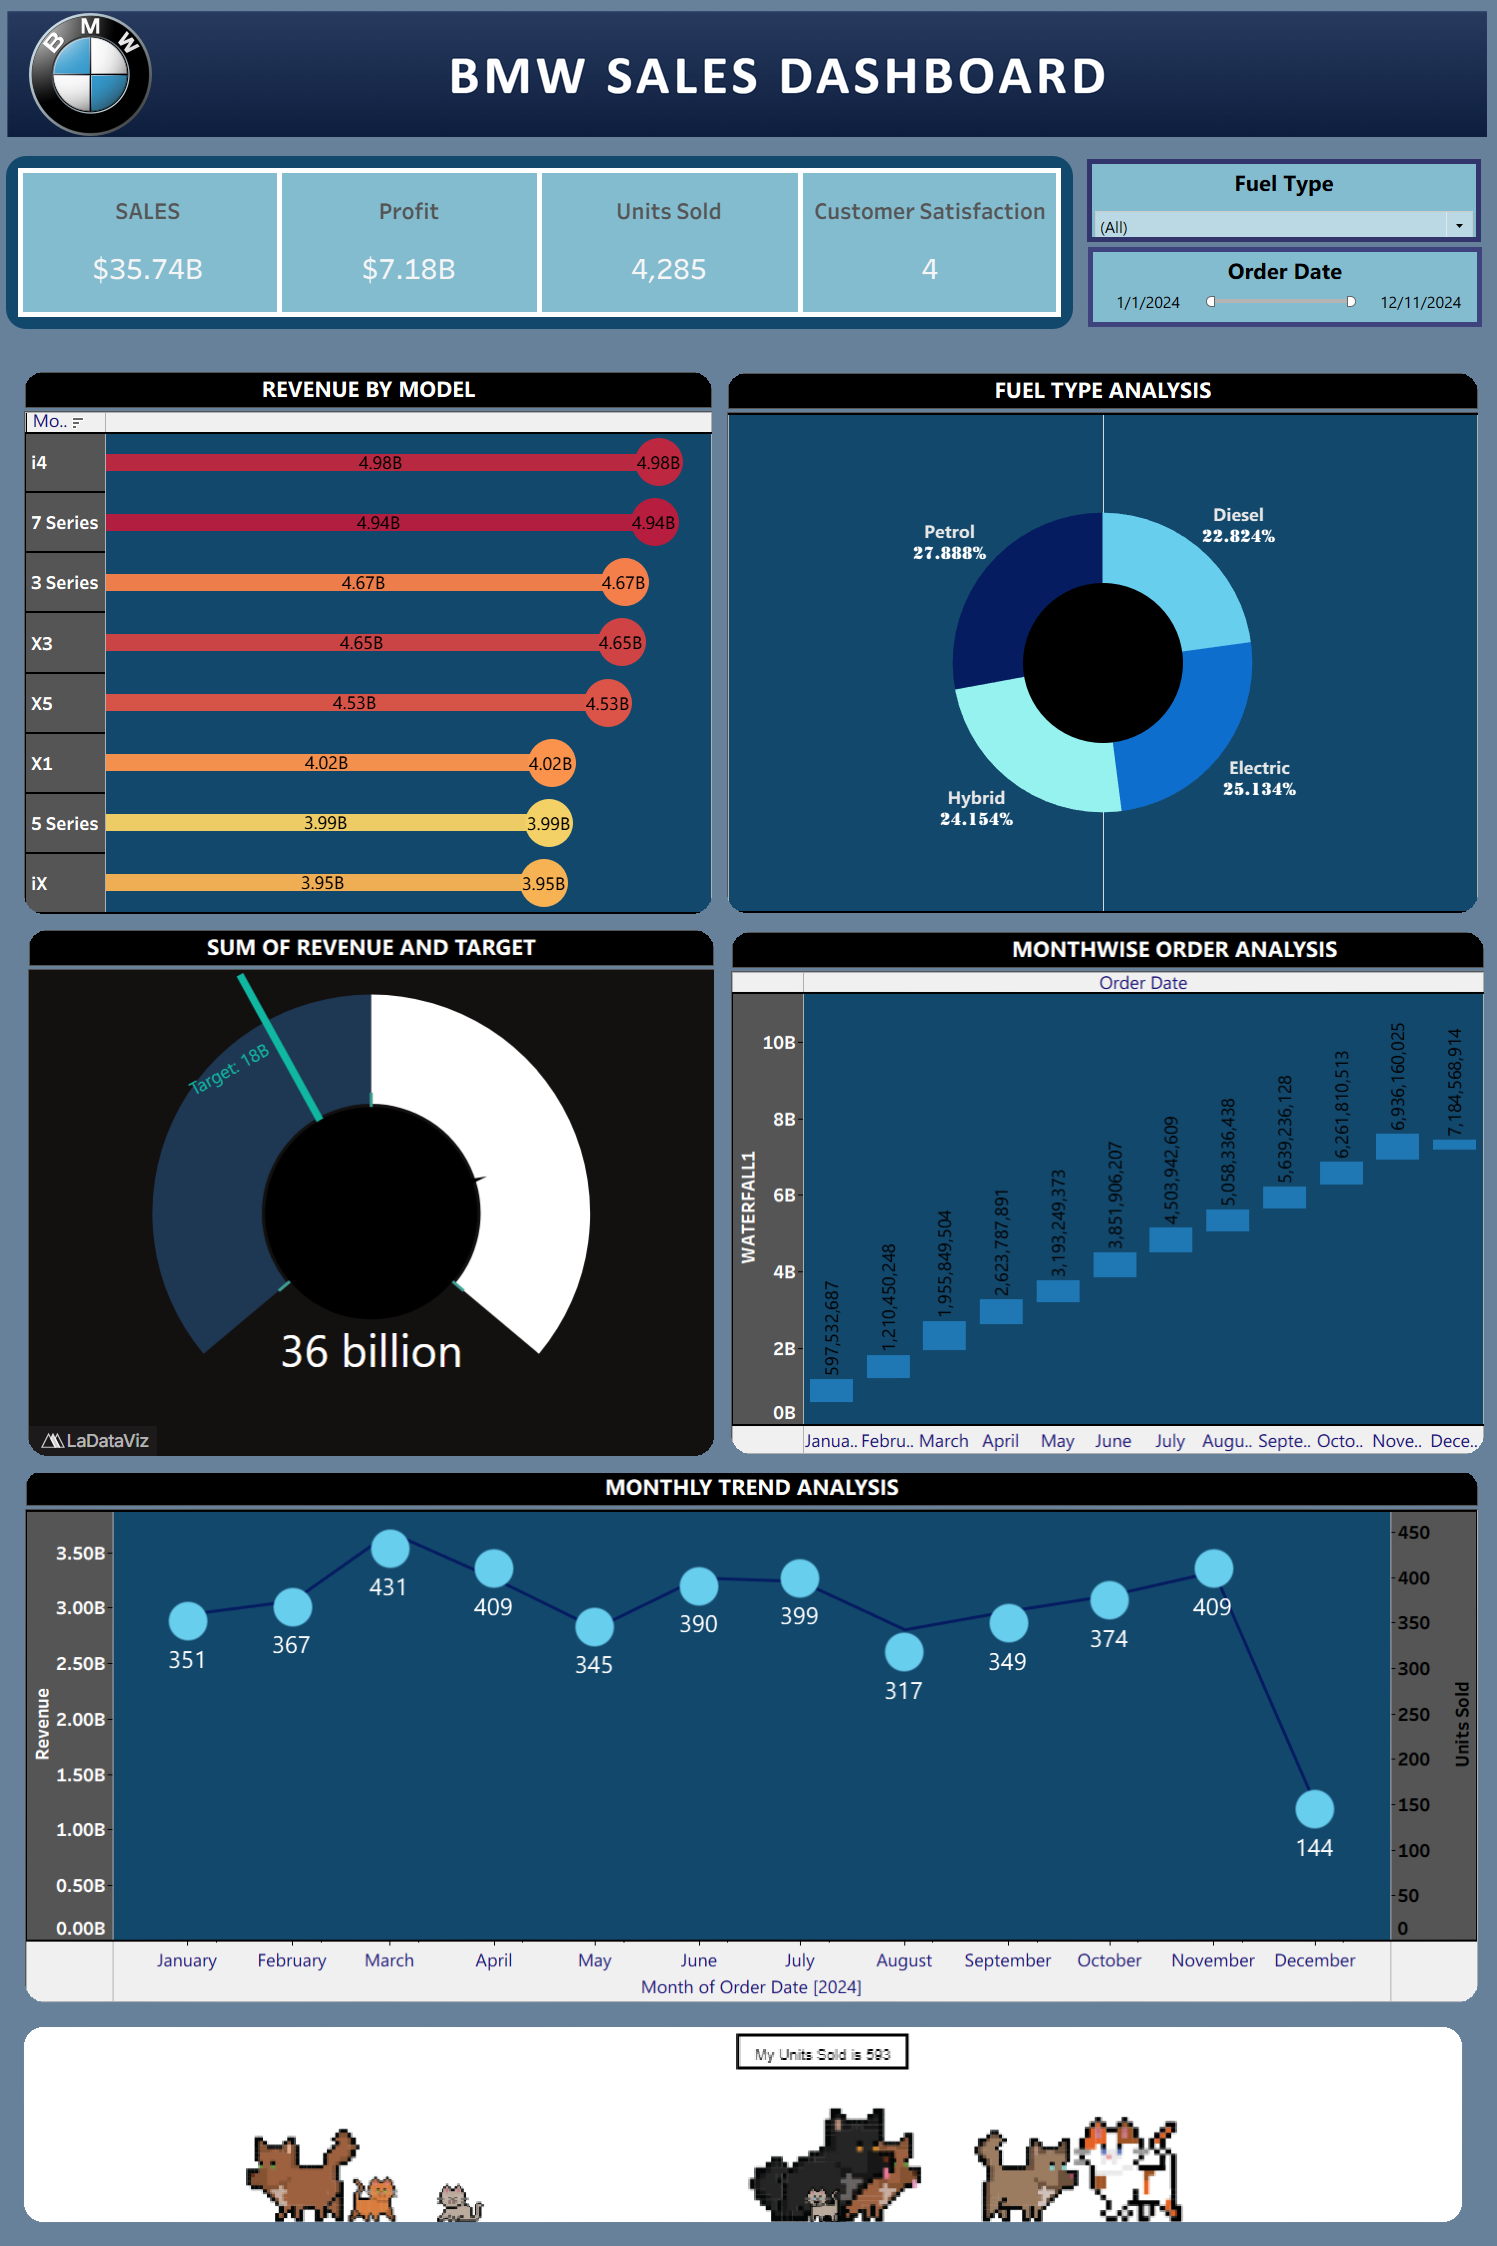

This screenshot's page, from the dashboard's own definition file:
{"tool":"tableau","page":{"name":"BMW DASHBOARD","canvas":[1500,2500],"ordinal":0},"visuals":[{"type":"image","param":"C:/Users/Admin/Downloads/bmw-sales-dashboard-banner (5).png","box":[1,1,1500,180]},{"type":"image","param":"C:/Users/Admin/Downloads/bmw.svg","box":[33,13,123,141]},{"type":"worksheet","title":"KPI MEASURES AND VLAUES","mark":"Automatic","box":[10,156,1067,173]},{"type":"filter","title":"SLICER 1","param":"[federated.1ohhm1g0ndy85h1eza1ex1nmdgmo].[none:FuelType:nk]","box":[1091,159,394,83]},{"type":"filter","title":"SLICER 2","param":"[federated.1ohhm1g0ndy85h1eza1ex1nmdgmo].[none:OrderDate:qk]","box":[1092,247,394,80]},{"type":"worksheet","title":"REVENUE BY MODEL","mark":"Automatic","rows":["Model"],"cols":["Revenue","Revenue"],"box":[28,372,688,542]},{"type":"worksheet","title":"FUEL TYPE ANALYSIS","mark":"Pie","cols":["Calculation_1367251508613126","Calculation_1367251508613126"],"box":[731,373,751,540]},{"type":"worksheet","title":"SLICER 2","mark":"Automatic","box":[794,394,399,97]},{"type":"worksheet","title":"SLICER 1","mark":"Automatic","box":[885,413,355,117]},{"type":"worksheet","title":"GAUGE CHART","box":[28,933,687,527]},{"type":"worksheet","title":"WATERFALL CHART","mark":"GanttBar","rows":["Calculation_0634977017462792"],"cols":["OrderDate"],"box":[732,935,754,523]},{"type":"worksheet","title":"MONTHLY TREND","mark":"Line","rows":["Revenue","UnitsSold"],"cols":["OrderDate"],"box":[25,1482,1459,535]},{"type":"worksheet","title":"Sheet 9","box":[23,2041,1446,198]}]}

Visuals, with their boxes on the page's 1500x2500 design canvas (x1, y1, x2, y2). These are canvas units, not pixel positions in the 1497x2246 screenshot, which may show the page scaled, cropped or inside an application window:
image: pyautogui.locateOnScreen(1, 1, 1501, 181)
image: pyautogui.locateOnScreen(33, 13, 156, 154)
"KPI MEASURES AND VLAUES" worksheet: pyautogui.locateOnScreen(10, 156, 1077, 329)
"SLICER 1" filter: pyautogui.locateOnScreen(1091, 159, 1485, 242)
"SLICER 2" filter: pyautogui.locateOnScreen(1092, 247, 1486, 327)
"REVENUE BY MODEL" worksheet: pyautogui.locateOnScreen(28, 372, 716, 914)
"FUEL TYPE ANALYSIS" worksheet (Pie marks): pyautogui.locateOnScreen(731, 373, 1482, 913)
"SLICER 2" worksheet: pyautogui.locateOnScreen(794, 394, 1193, 491)
"SLICER 1" worksheet: pyautogui.locateOnScreen(885, 413, 1240, 530)
"GAUGE CHART" worksheet: pyautogui.locateOnScreen(28, 933, 715, 1460)
"WATERFALL CHART" worksheet (GanttBar marks): pyautogui.locateOnScreen(732, 935, 1486, 1458)
"MONTHLY TREND" worksheet (Line marks): pyautogui.locateOnScreen(25, 1482, 1484, 2017)
"Sheet 9" worksheet: pyautogui.locateOnScreen(23, 2041, 1469, 2239)
